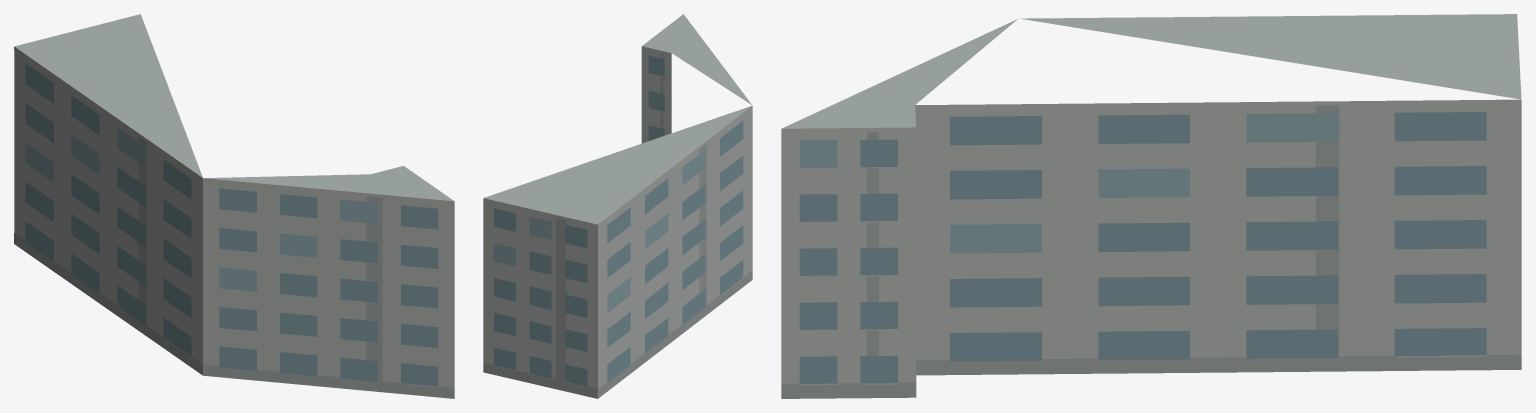
Rendered from residential-945654a9-643e-4c05-ae62-3d23d1362b8b.glb.
3 renders of one model, left to right at view 1: azimuth 30°, elevation 25°; view 2: azimuth 150°, elevation 25°; view 3: azimuth 270°, elevation 25°, orthographic. The views are drawn at different scales.
Parts seen in each view (by area): view 1: residential-945654a9-643e-4c05-ae62-3d23d1362b8b.tmp; view 2: residential-945654a9-643e-4c05-ae62-3d23d1362b8b.tmp; view 3: residential-945654a9-643e-4c05-ae62-3d23d1362b8b.tmp.
Boxes of the visible parts, <box> form: residential-945654a9-643e-4c05-ae62-3d23d1362b8b.tmp: <box>14,14,454,398</box>; residential-945654a9-643e-4c05-ae62-3d23d1362b8b.tmp: <box>483,14,752,398</box>; residential-945654a9-643e-4c05-ae62-3d23d1362b8b.tmp: <box>781,14,1521,398</box>.
Bounding box in the file's own units: 13.89 × 15.25 × 37.86.
